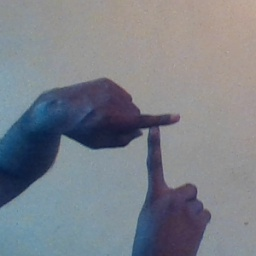T: (111, 91, 200, 206)
